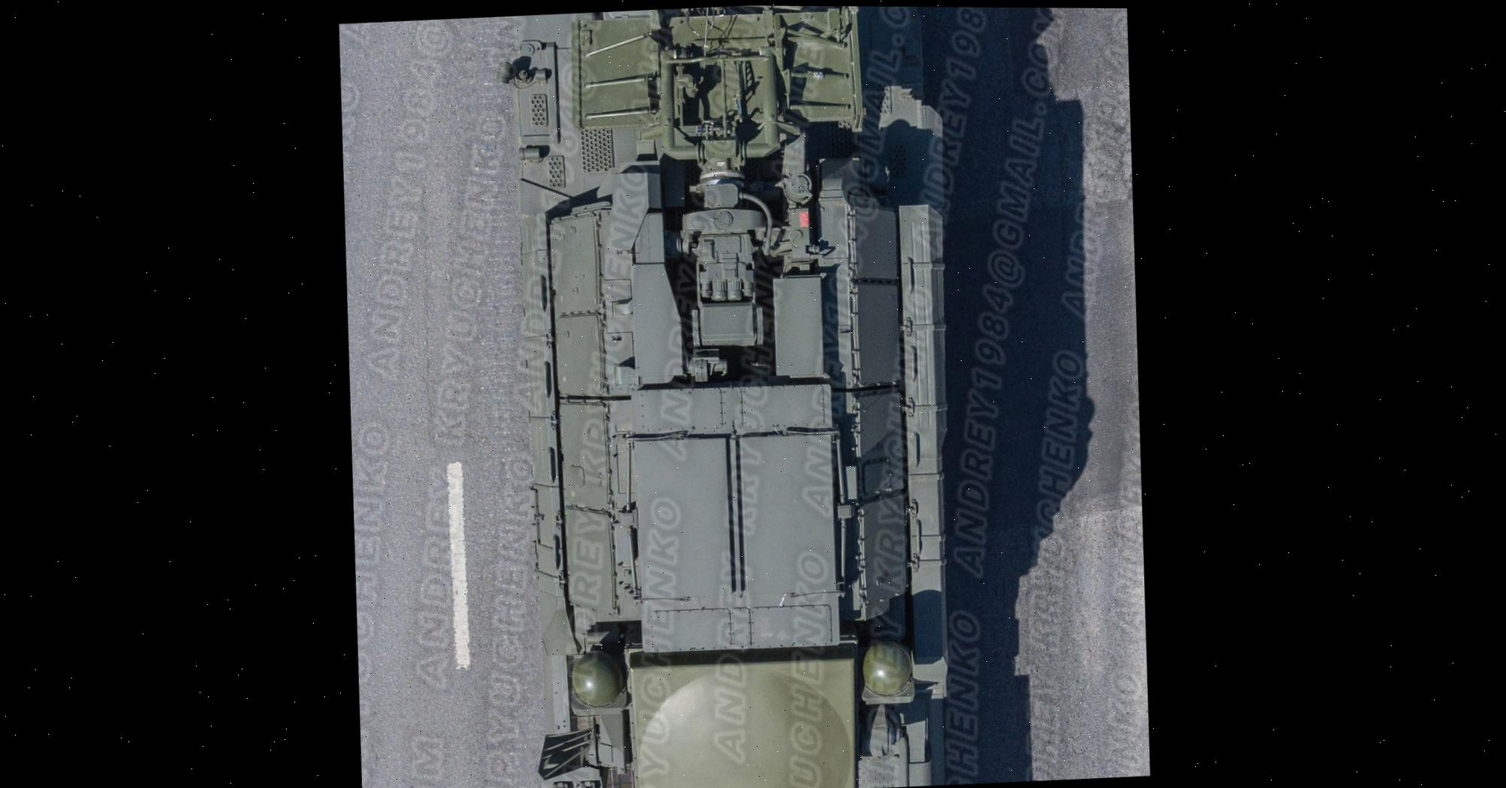armored_car: (468, 4, 1134, 788)
